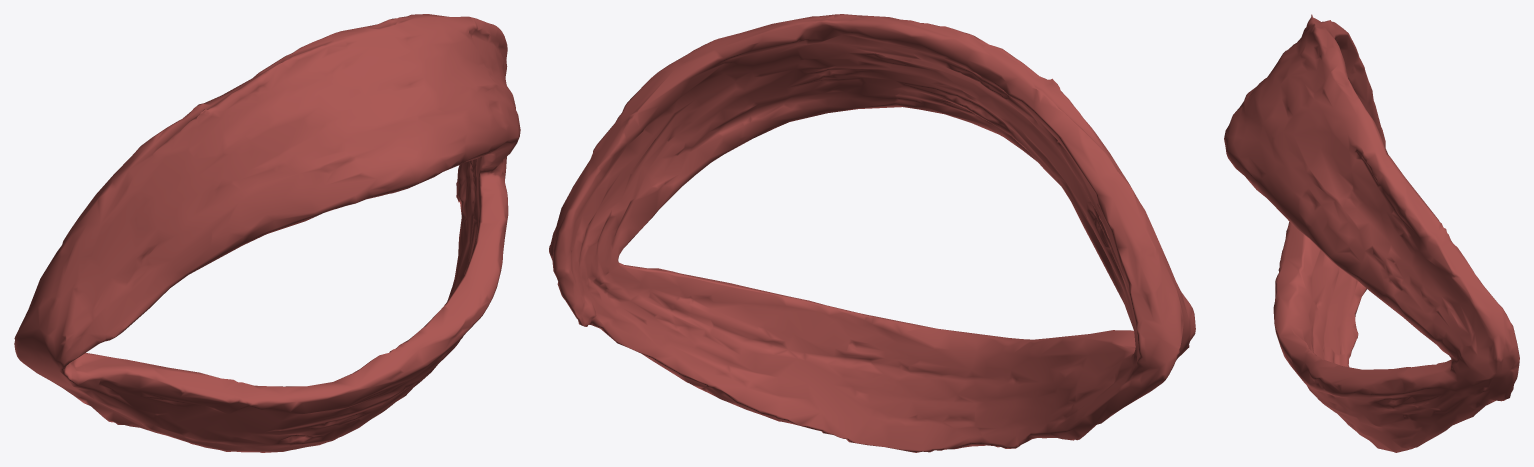
The model's file is FMA46783.glb.
The picture shows the model from 3 angles, left to right: view 1: azimuth 30°, elevation 25°; view 2: azimuth 150°, elevation 25°; view 3: azimuth 270°, elevation 25°; orthographic projection. The views are drawn at different scales.
Visible parts, largest first — view 1: FMA46783; view 2: FMA46783; view 3: FMA46783.
Part boxes in pixels (bbox=[...]): FMA46783: bbox=[14, 14, 520, 452]; FMA46783: bbox=[549, 14, 1195, 452]; FMA46783: bbox=[1224, 14, 1519, 452].
Size of the model in its own units: 0.0327 by 0.0234 by 0.0169.
